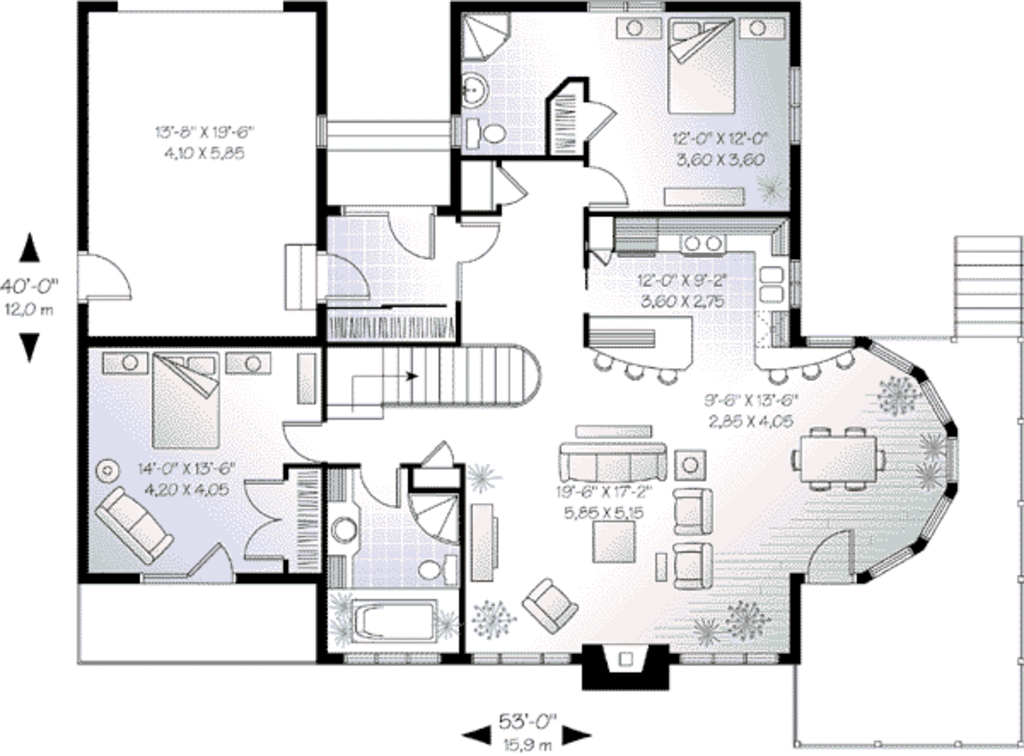bed: (661, 8, 740, 123), (149, 349, 232, 456)
dining_table: (780, 423, 900, 500)
door: (235, 476, 302, 567), (793, 523, 866, 583), (70, 245, 141, 305), (311, 250, 374, 310), (178, 537, 239, 594), (385, 210, 444, 266), (451, 217, 515, 266), (348, 459, 410, 508), (279, 420, 333, 463), (586, 161, 631, 208), (490, 165, 532, 212), (587, 97, 623, 137)
kitchen_bar: (577, 210, 803, 382)
large_sink: (405, 548, 464, 589), (462, 115, 515, 153)
large_sofa: (550, 438, 671, 486)
small_sink: (324, 502, 364, 560), (458, 72, 503, 113)
small_sofa: (512, 569, 587, 638), (664, 483, 719, 538), (671, 540, 722, 595)
stairs: (326, 336, 557, 433), (940, 226, 1024, 338)
tub: (343, 596, 446, 648)
twin_sink: (749, 265, 790, 308)
window: (470, 642, 582, 679), (676, 645, 796, 674), (784, 59, 803, 151), (803, 333, 861, 351)
